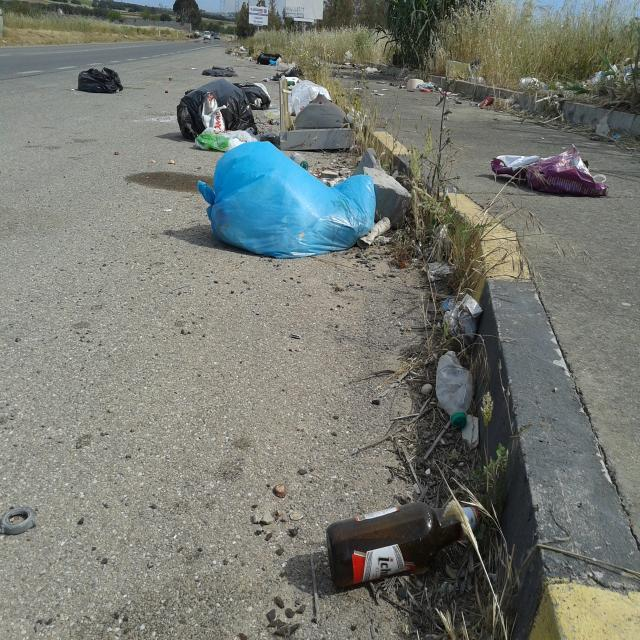Trashbag: (176, 79, 248, 136), (72, 63, 126, 97), (242, 82, 272, 110)
